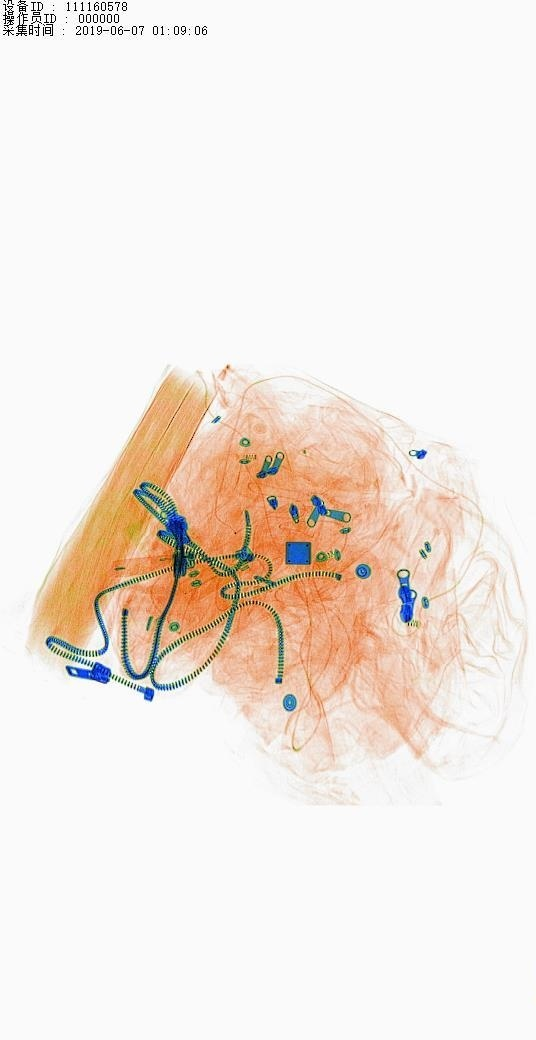NonmetallicFire: (103, 537, 222, 602), (185, 529, 286, 605)
